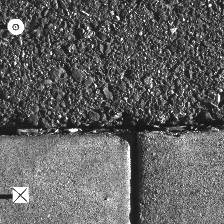circle: (7, 18, 24, 34)
crack: (1, 121, 223, 137)
square: (11, 187, 29, 203)
